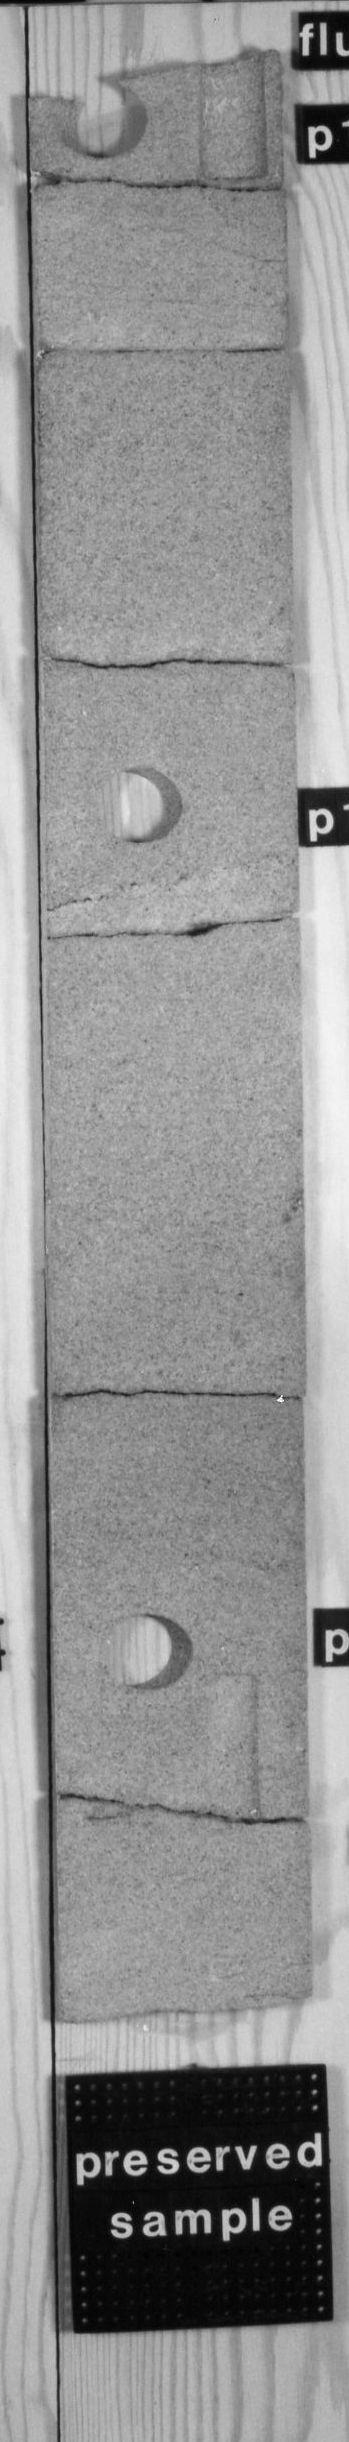hplug: (73, 754, 195, 857), (90, 1603, 199, 1701)
vplug: (167, 51, 277, 185), (189, 1666, 274, 1821), (53, 73, 160, 168)
